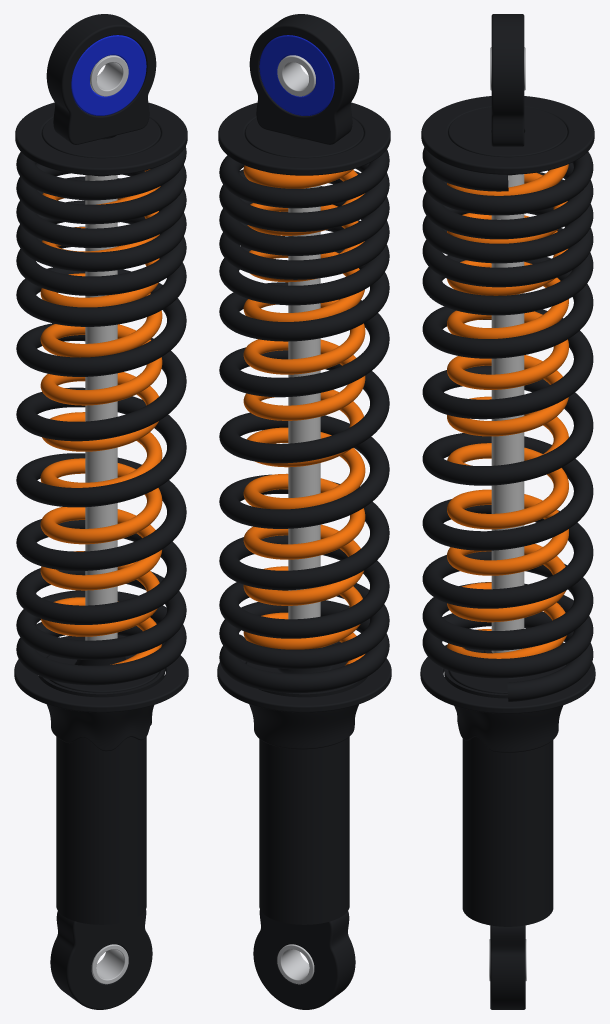
File: rear-sns-rest-assembly-v3.glb
The picture shows the model from 3 angles, left to right: view 1: azimuth 30°, elevation 25°; view 2: azimuth 150°, elevation 25°; view 3: azimuth 270°, elevation 25°; orthographic projection.
Parts seen in each view (by area): view 1: Related SNS black outer spring - estimated gray study, Related SNS orange inner spring - estimated gray study, Related SNS lower body exterior skin - estimated, SNS opposite black eye and neck exterior - estimated, SNS body-side black eye and neck exterior - estimated, SNS reflective axial shaft exterior - estimated, SNS opposite spring rim - estimated continuation, SNS collar - observed front and estimated back, SNS body-side spring rim - estimated continuation, SNS opposite broadblue annular region - estimated continuati, SNS opposite support and rod-end cover - estimated continuat, SNS body-side support and rod-end cover - estimated continua (+2 smaller); view 2: Related SNS black outer spring - estimated gray study, Related SNS orange inner spring - estimated gray study, Related SNS lower body exterior skin - estimated, SNS opposite black eye and neck exterior - estimated, SNS body-side black eye and neck exterior - estimated, SNS opposite spring rim - estimated continuation, SNS reflective axial shaft exterior - estimated, SNS collar - observed front and estimated back, SNS opposite broadblue annular region - estimated continuati, SNS body-side spring rim - estimated continuation, SNS opposite support and rod-end cover - estimated continuat, SNS opposite central sleeve - estimated continuation (+2 smaller); view 3: Related SNS black outer spring - estimated gray study, Related SNS orange inner spring - estimated gray study, Related SNS lower body exterior skin - estimated, SNS opposite spring rim - estimated continuation, SNS reflective axial shaft exterior - estimated, SNS opposite black eye and neck exterior - estimated, SNS collar - observed front and estimated back, SNS opposite support and rod-end cover - estimated continuat, SNS body-side spring rim - estimated continuation, SNS body-side black eye and neck exterior - estimated, SNS body-side support and rod-end cover - estimated continua.
Boxes of the visible parts, left/top/right/bottom form: Related SNS black outer spring - estimated gray study: left=16, top=146, right=186, bottom=685; Related SNS orange inner spring - estimated gray study: left=40, top=169, right=162, bottom=664; Related SNS lower body exterior skin - estimated: left=56, top=737, right=146, bottom=924; SNS opposite black eye and neck exterior - estimated: left=46, top=14, right=156, bottom=144; SNS body-side black eye and neck exterior - estimated: left=50, top=909, right=152, bottom=1009; SNS reflective axial shaft exterior - estimated: left=85, top=175, right=117, bottom=640; SNS opposite spring rim - estimated continuation: left=15, top=102, right=187, bottom=175; SNS collar - observed front and estimated back: left=38, top=654, right=164, bottom=751; SNS body-side spring rim - estimated continuation: left=14, top=635, right=188, bottom=712; SNS opposite broadblue annular region - estimated continuati: left=71, top=35, right=146, bottom=115; SNS opposite support and rod-end cover - estimated continuat: left=42, top=118, right=160, bottom=176; SNS body-side support and rod-end cover - estimated continua: left=47, top=654, right=159, bottom=692; Related SNS black outer spring - estimated gray study: left=219, top=149, right=389, bottom=693; Related SNS orange inner spring - estimated gray study: left=243, top=165, right=365, bottom=665; Related SNS lower body exterior skin - estimated: left=259, top=737, right=349, bottom=924; SNS opposite black eye and neck exterior - estimated: left=249, top=14, right=359, bottom=144; SNS body-side black eye and neck exterior - estimated: left=253, top=909, right=355, bottom=1009; SNS opposite spring rim - estimated continuation: left=218, top=102, right=390, bottom=175; SNS reflective axial shaft exterior - estimated: left=288, top=185, right=320, bottom=619; SNS collar - observed front and estimated back: left=242, top=643, right=366, bottom=749; SNS opposite broadblue annular region - estimated continuati: left=259, top=35, right=334, bottom=115; SNS body-side spring rim - estimated continuation: left=217, top=641, right=391, bottom=712; SNS opposite support and rod-end cover - estimated continuat: left=245, top=118, right=363, bottom=158; SNS opposite central sleeve - estimated continuation: left=277, top=55, right=315, bottom=96; Related SNS black outer spring - estimated gray study: left=422, top=147, right=593, bottom=701; Related SNS orange inner spring - estimated gray study: left=447, top=164, right=568, bottom=658; Related SNS lower body exterior skin - estimated: left=462, top=736, right=553, bottom=926; SNS opposite spring rim - estimated continuation: left=421, top=96, right=594, bottom=174; SNS reflective axial shaft exterior - estimated: left=491, top=174, right=524, bottom=653; SNS opposite black eye and neck exterior - estimated: left=491, top=14, right=524, bottom=146; SNS collar - observed front and estimated back: left=444, top=648, right=568, bottom=752; SNS opposite support and rod-end cover - estimated continuat: left=448, top=107, right=567, bottom=175; SNS body-side spring rim - estimated continuation: left=420, top=642, right=595, bottom=713; SNS body-side black eye and neck exterior - estimated: left=490, top=925, right=525, bottom=1009; SNS body-side support and rod-end cover - estimated continua: left=449, top=648, right=566, bottom=693.
Size of the model in its own units: 0.059 by 0.3668 by 0.059.
